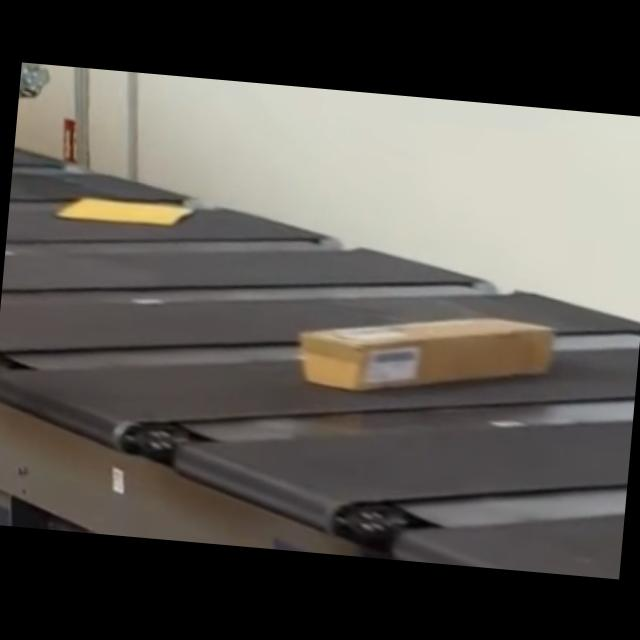box: (296, 296, 552, 409)
mailer: (58, 192, 192, 229)
